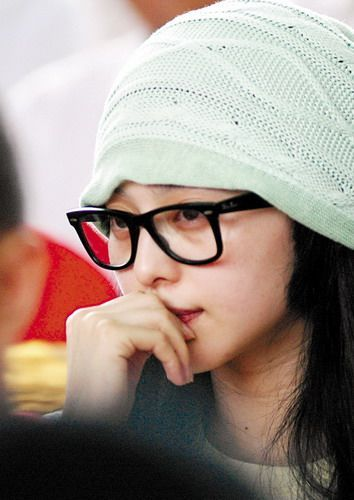face: (104, 126, 283, 376)
